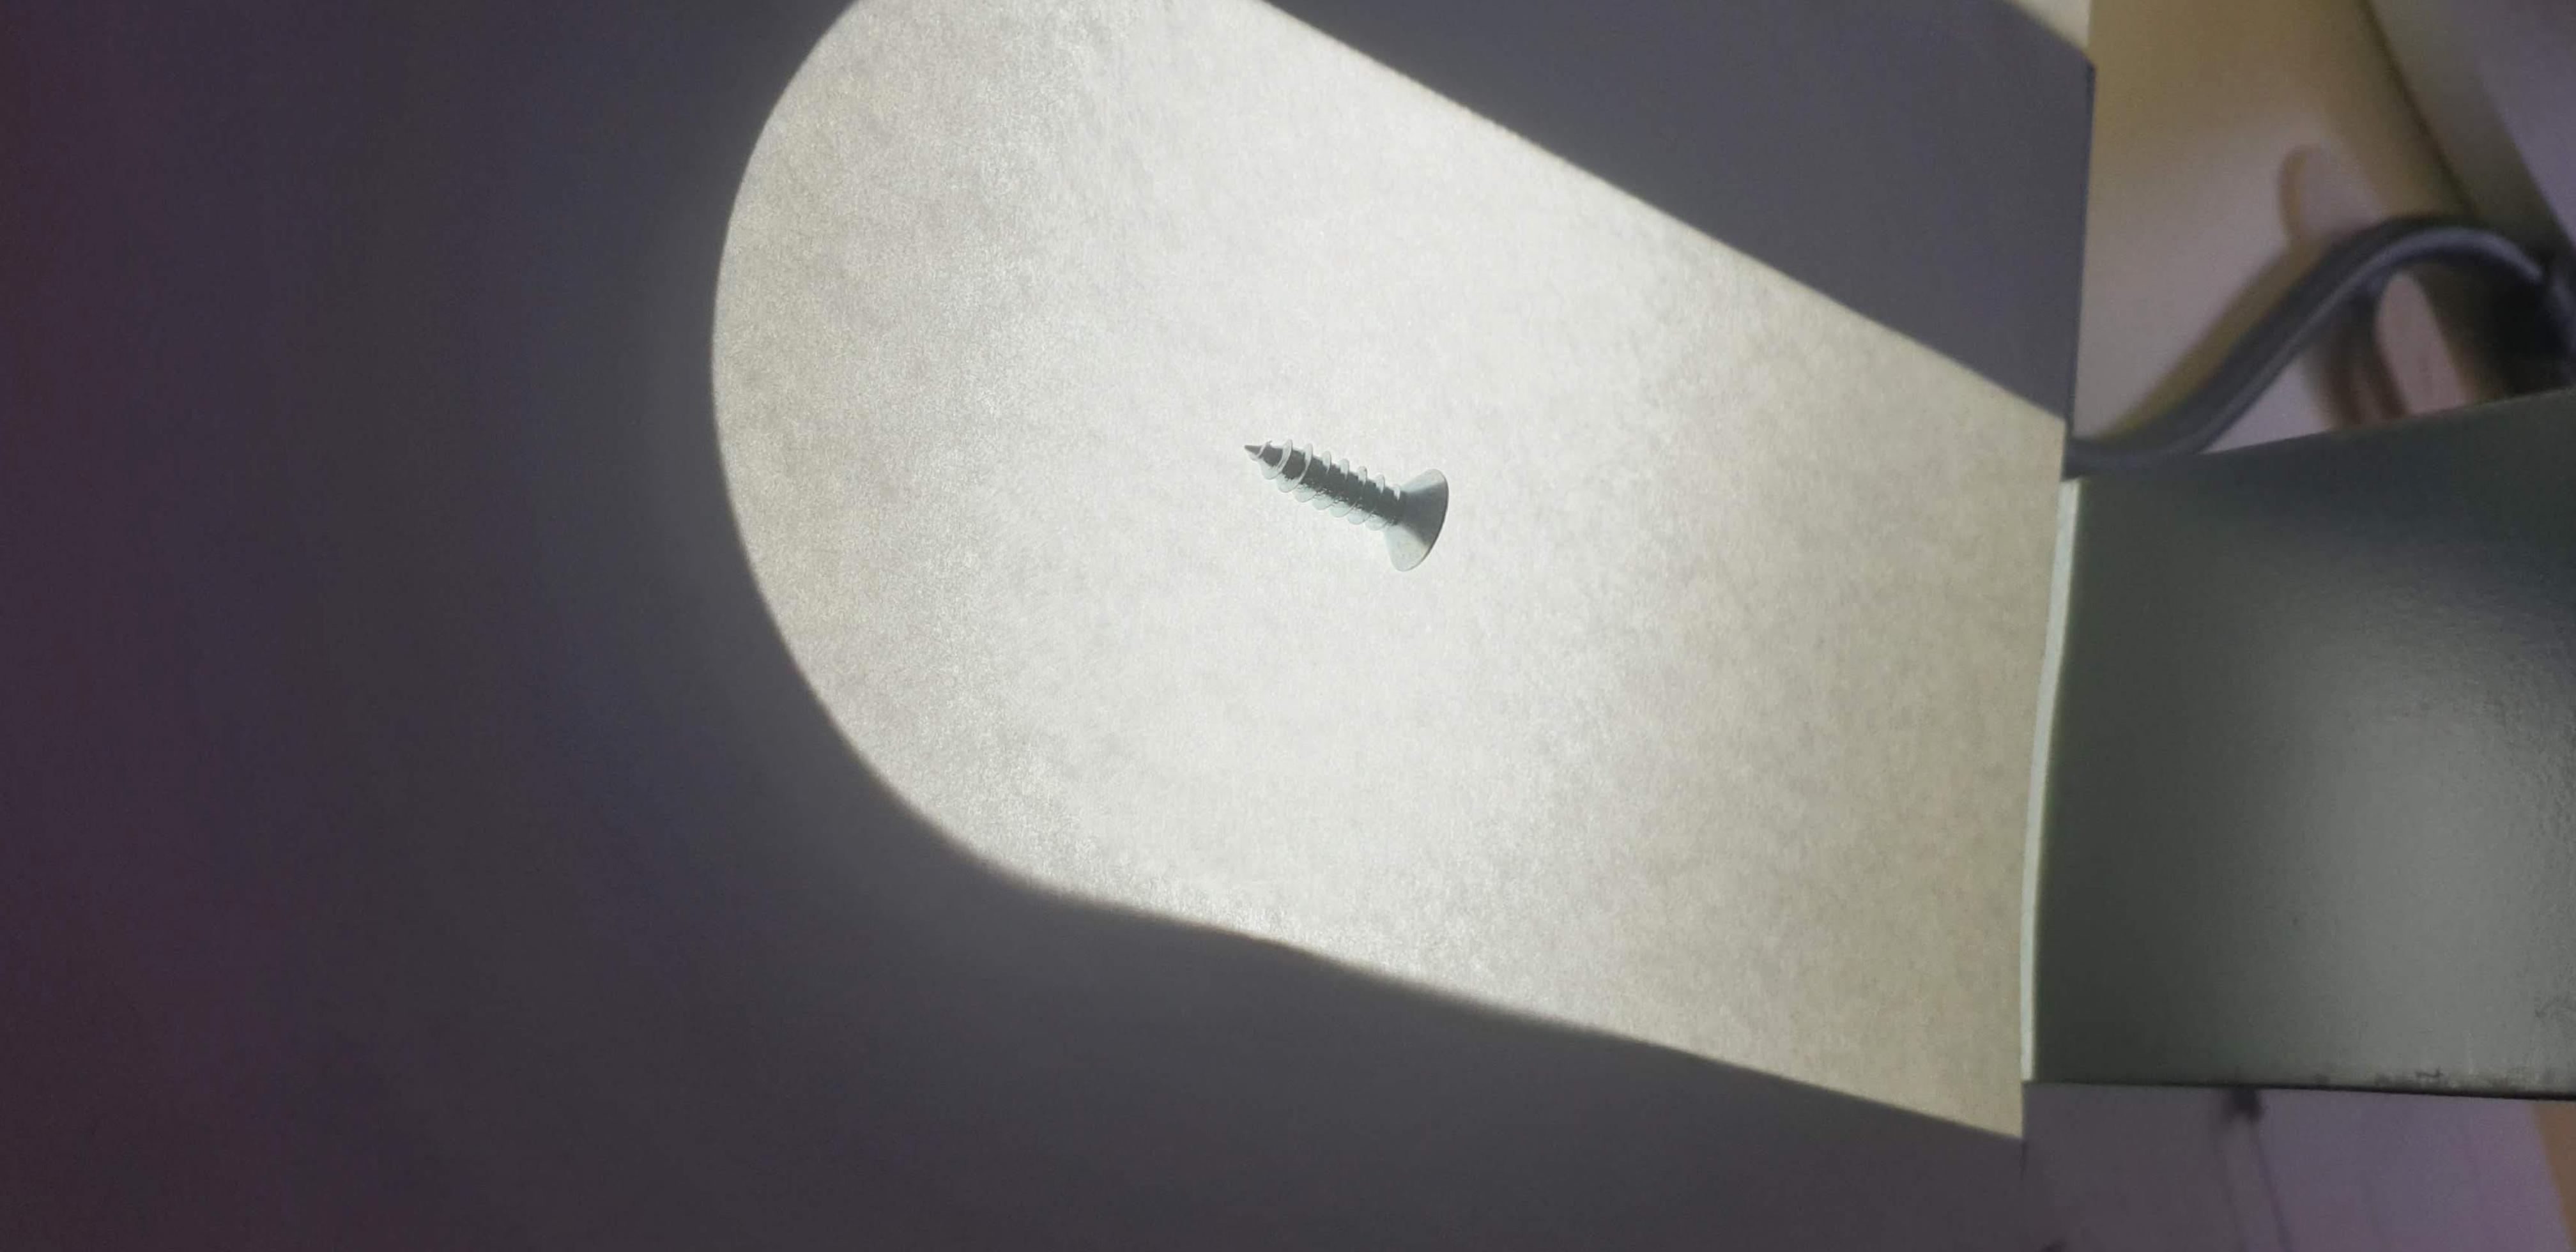S003: (1216, 406, 1500, 600)
